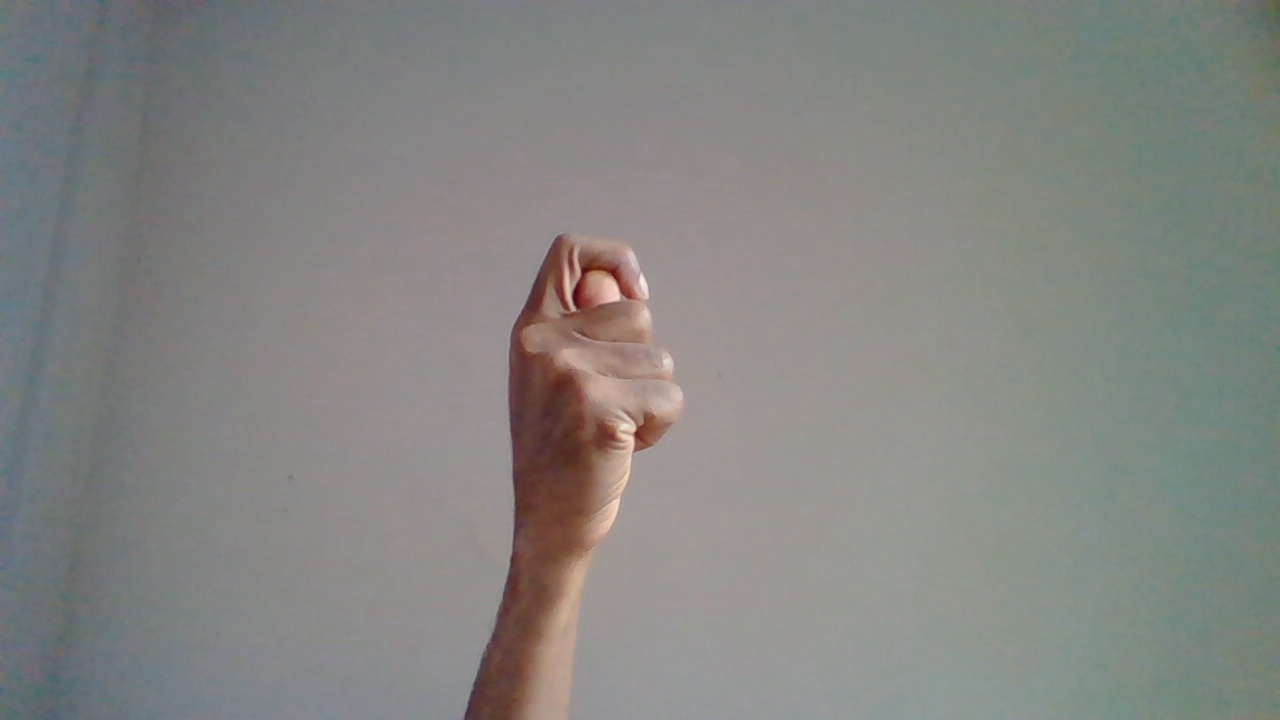che: (506, 231, 689, 688)
